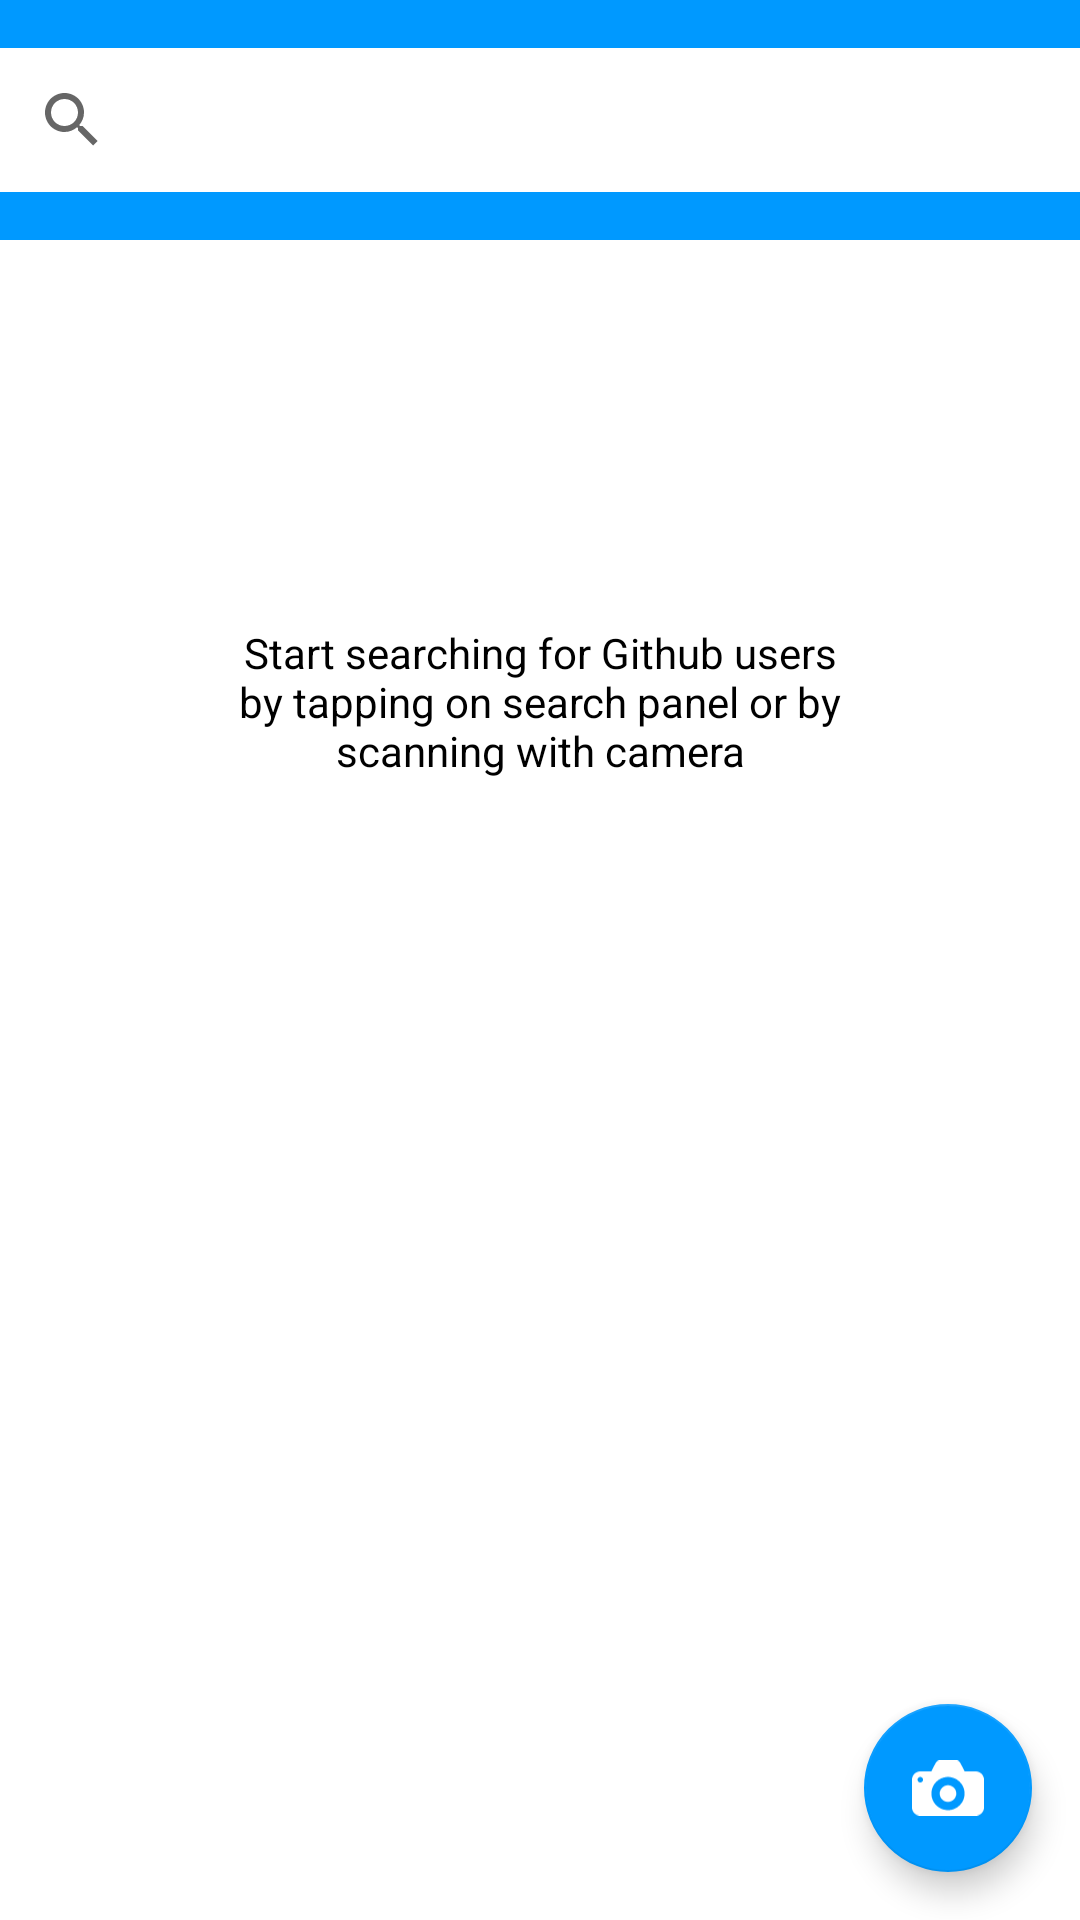

Where to tap for icons on this 1080 × 1920 app screen, as (x,y):
camera: (948,1788)
